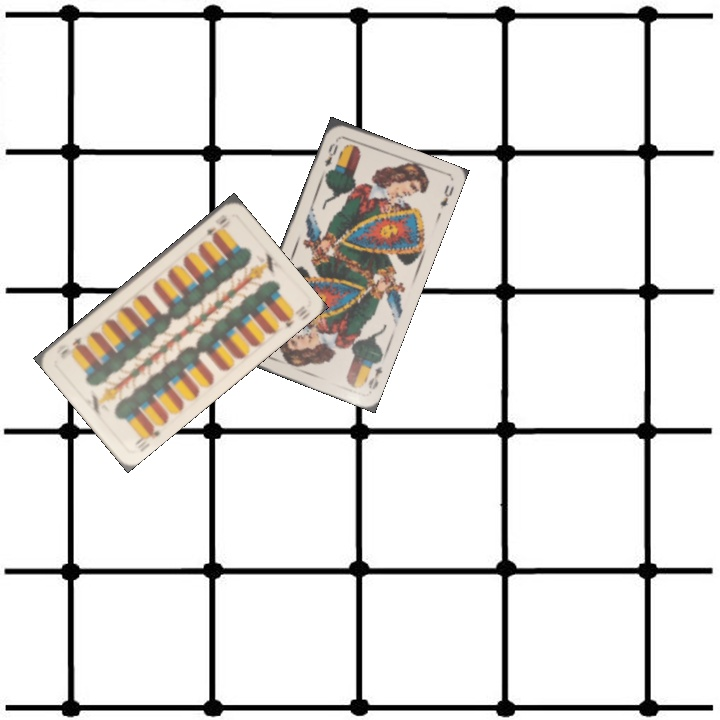E10: (202, 210, 230, 240), (132, 421, 163, 448)
EO: (320, 139, 341, 169), (364, 363, 385, 392)
